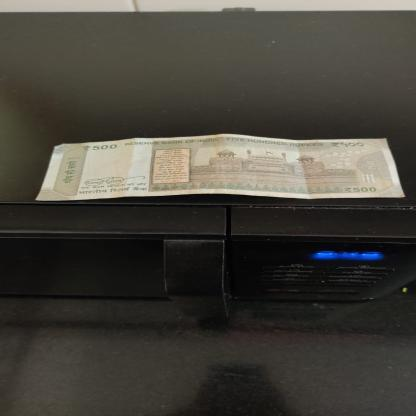New500Back: (32, 134, 409, 201)
